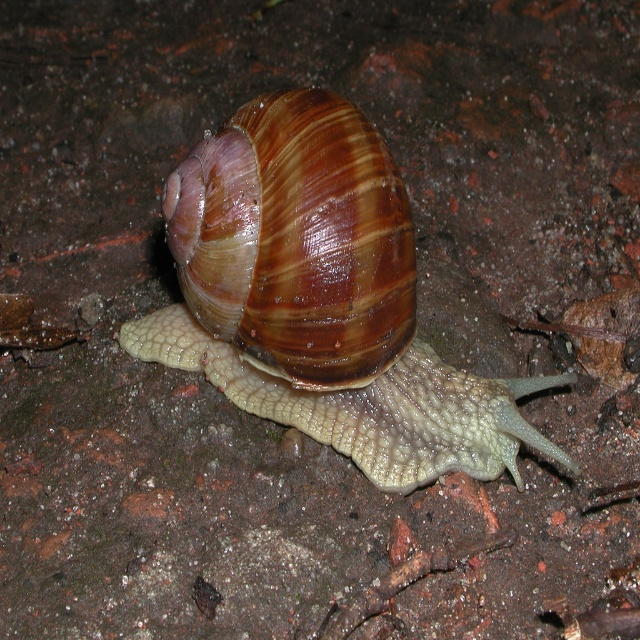Snail: (118, 86, 583, 495)
